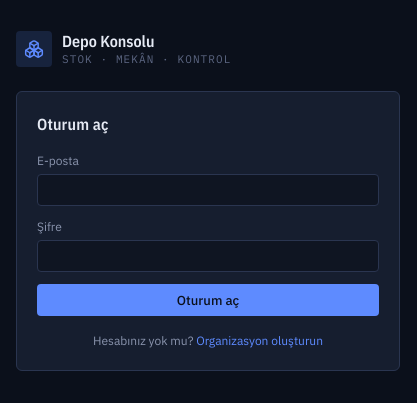
Scenario: LoginPage › shows the backend error message on wrong credentials
The width and height of the screenshot is (417, 403).
Type "owner@demo.co" into the field labelled "E-posta" at (208, 190), box [37,174,379,206]
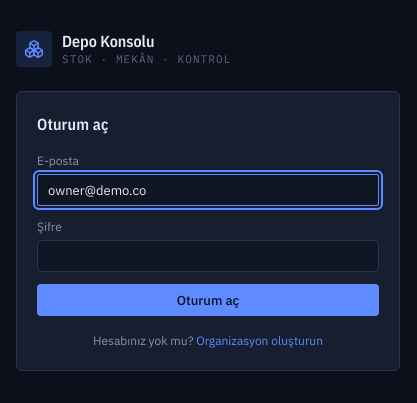
Type "yanlis" into the password field labelled "Şifre" at (208, 256), box [37,240,379,272]
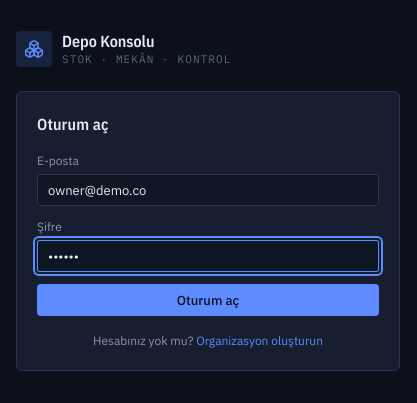
Click the button "Oturum aç" at (208, 300), box [37,284,379,316]
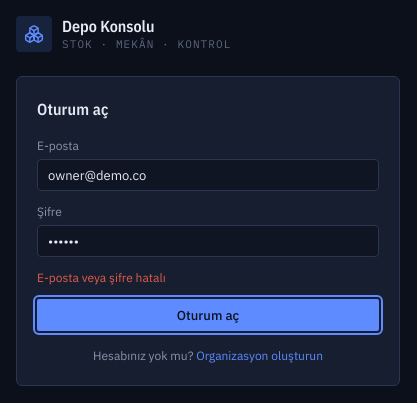
Result: the text "E-posta veya şifre hatalı" is shown at [37,270,166,285]
